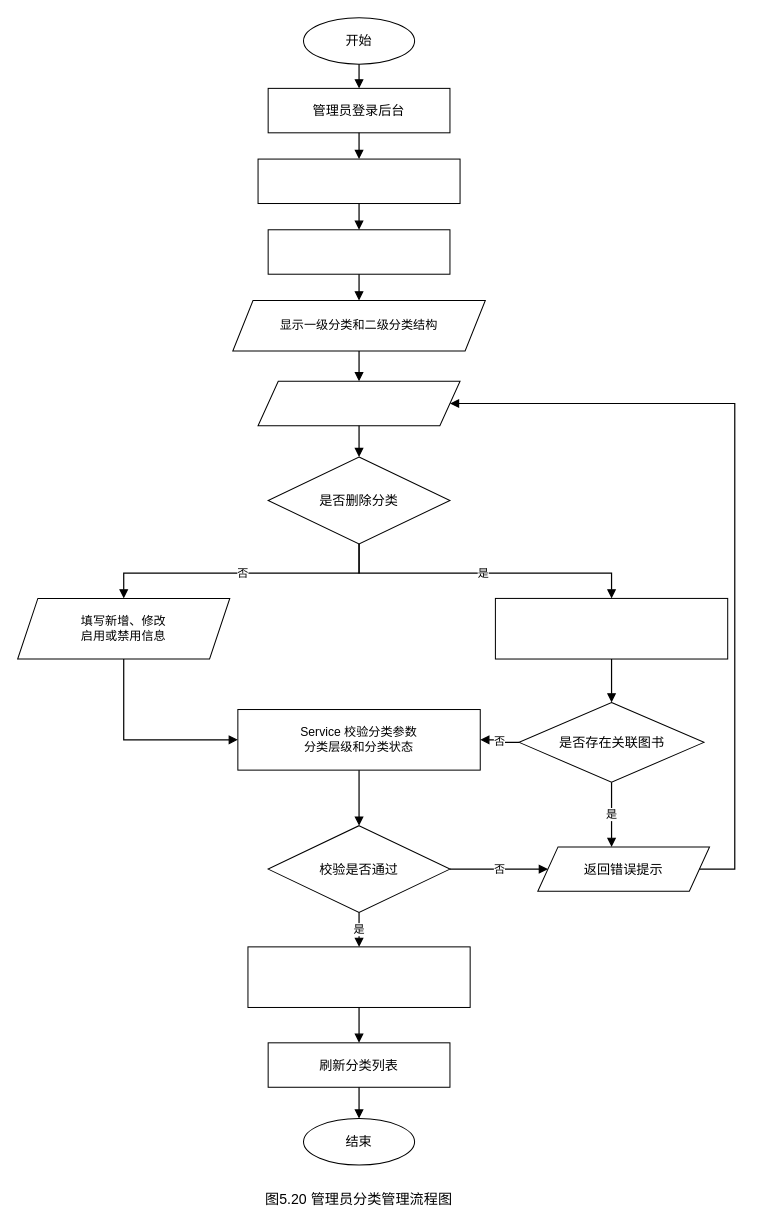
Some shapes in this 762 by 1232 pixel diagram are drawn without their labels. Here are the shapes that lost their labels. From the top down, the centre of each, then its label:
At (358,181): "进入分类管理页面".
At (358,251): "查询分类列表".
At (358,403): "选择分类管理操作".
At (611,628): "Service 校验删除条件 查询是否存在关联图书".
At (358,976): "Mapper 新增、修改 或软删除分类数据".
